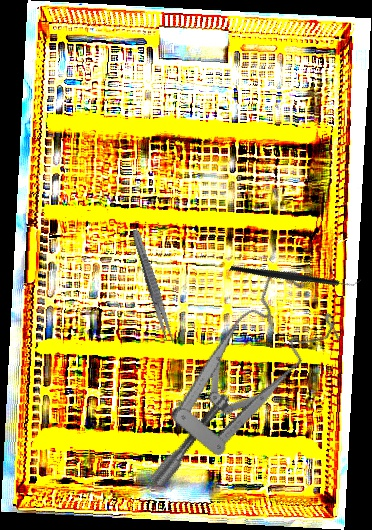Chopper: (229, 221, 362, 328)
Dressing Forceps: (128, 228, 178, 345)
Speculum: (94, 259, 365, 490)
